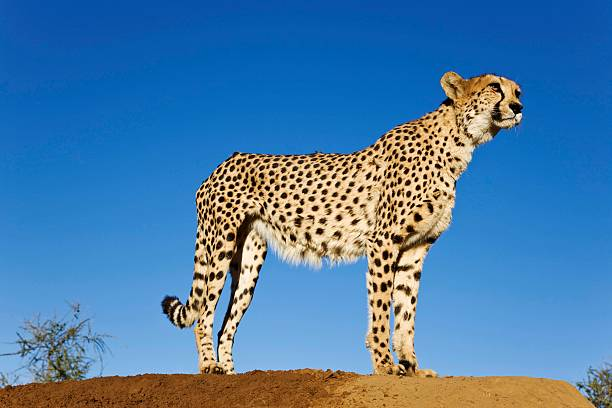cheetah: (431, 64, 528, 145)
